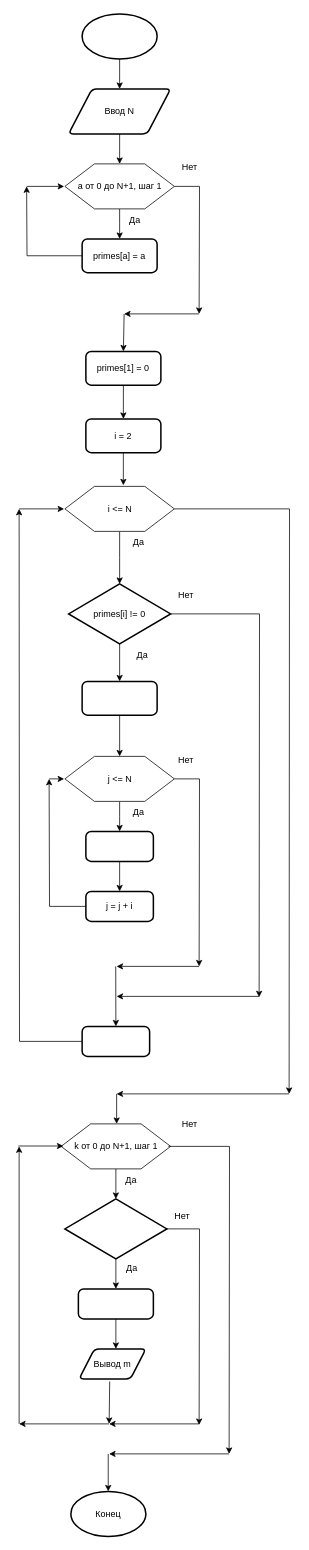
The diagram is 309 pixels wide and 1550 high, and some of its shapes have lost their labels. Each missing label, with the box of its shape:
i++: (81, 1025, 150, 1057)
j = i + i: (81, 680, 158, 716)
m = primes[k]: (77, 1288, 154, 1319)
primes[j] = 0: (85, 830, 154, 862)
primes[k] != 0: (64, 1198, 167, 1259)
Начало: (81, 13, 158, 59)
